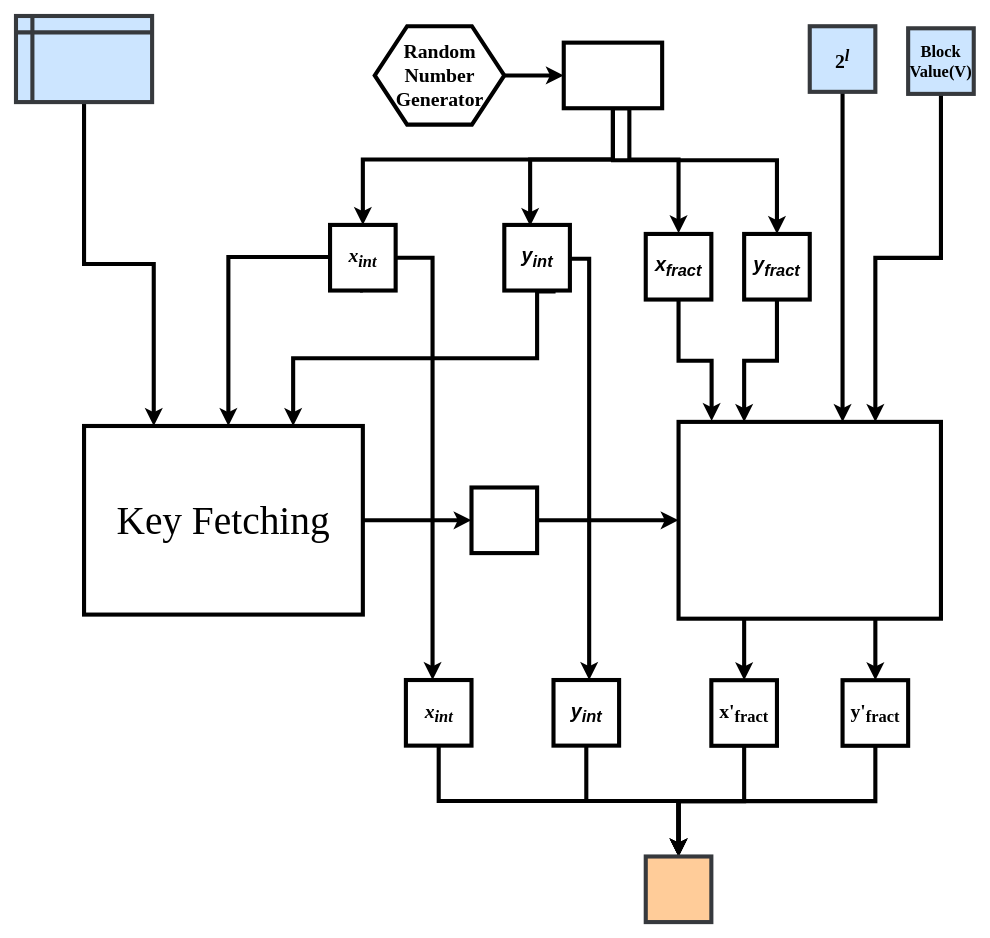
Image size: 990x938. Some labels were removed from this diagram. Each missing label, with the centre of its shape:
"Code Book" belongs at [84,59].
"Key" belongs at [504,520].
"P(x,y)" belongs at [612,75].
"Point Shifting" belongs at [809,519].
"Q(x,y)" belongs at [678,889].
